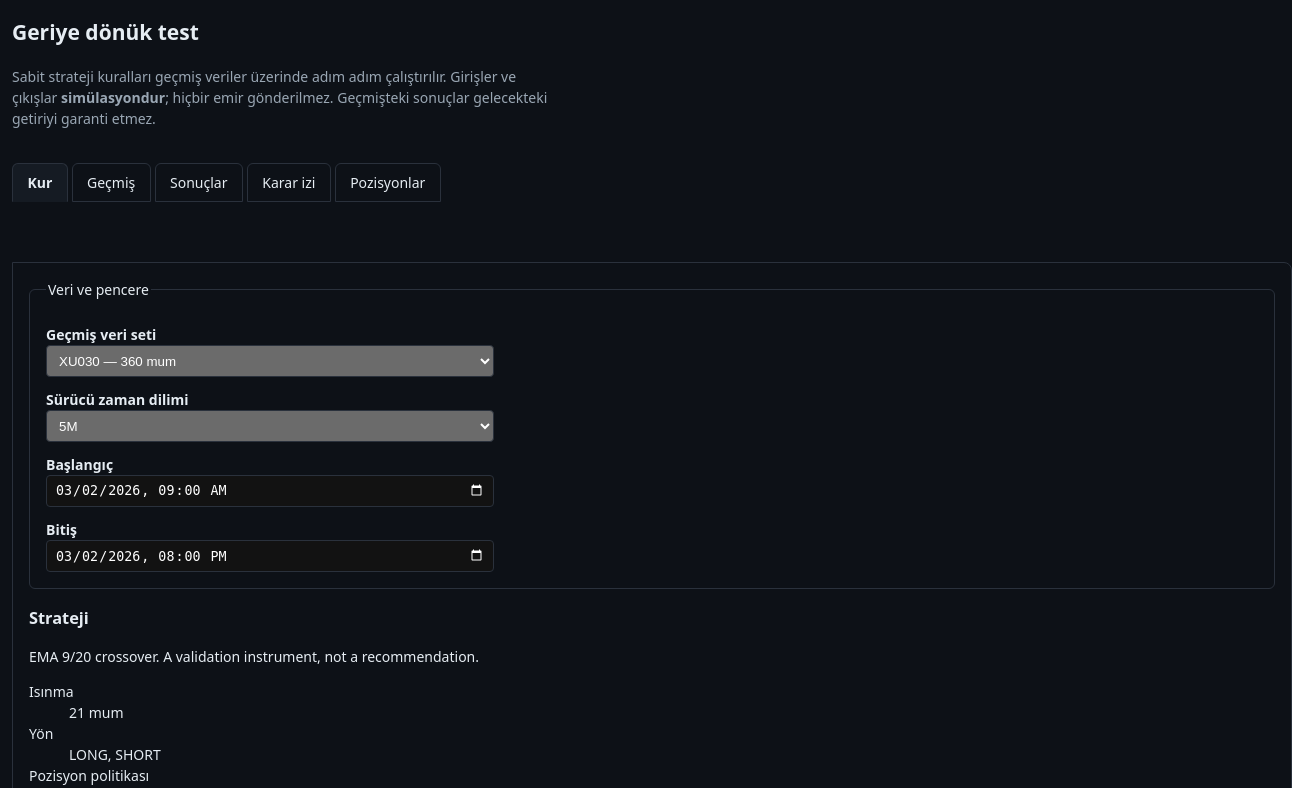
Scenario: run status presentation › shows a failed run without fabricating a report
The image size is (1292, 788).
Expected: the heading "Geriye dönük test" is shown, [12,18,199,46]
Click the tab "Geçmiş": click(111, 183) [72,163,151,202]
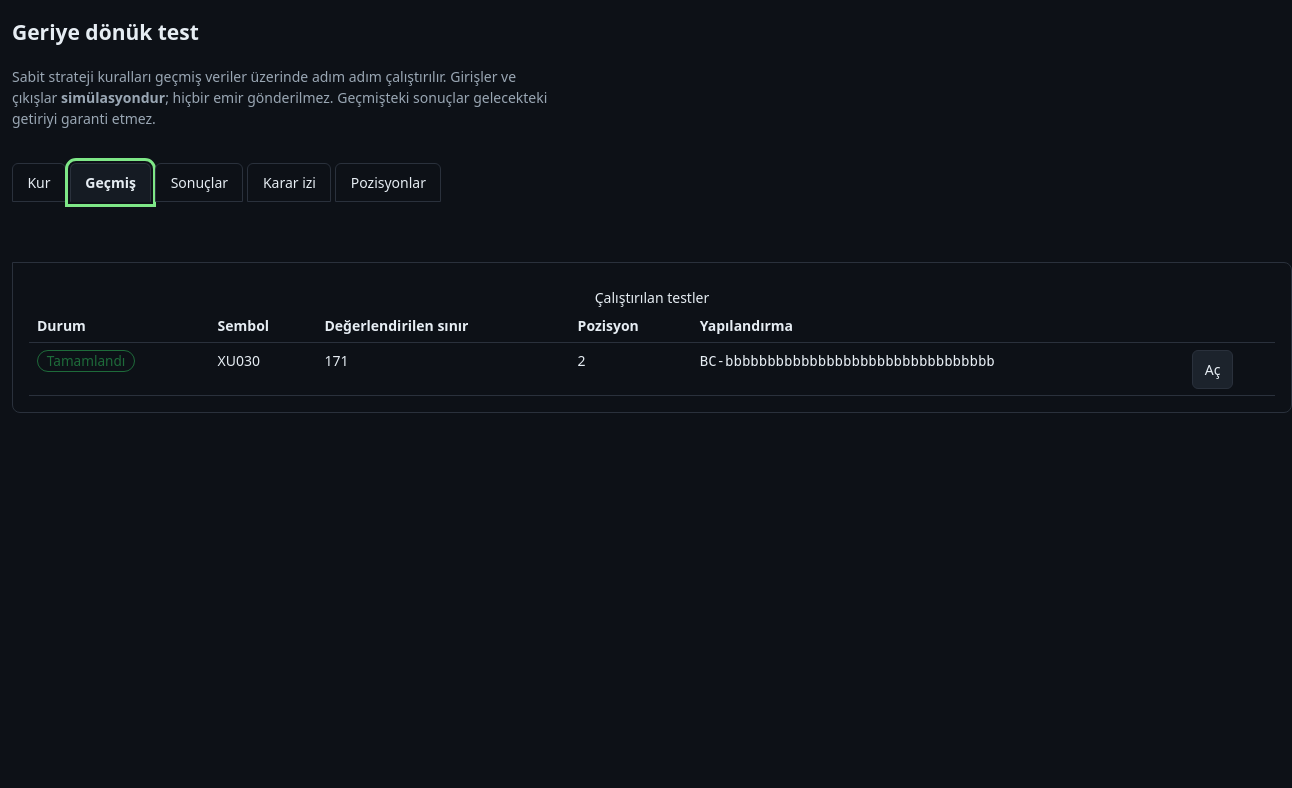
Click the button "Aç": click(1213, 369) [1192,350,1233,388]
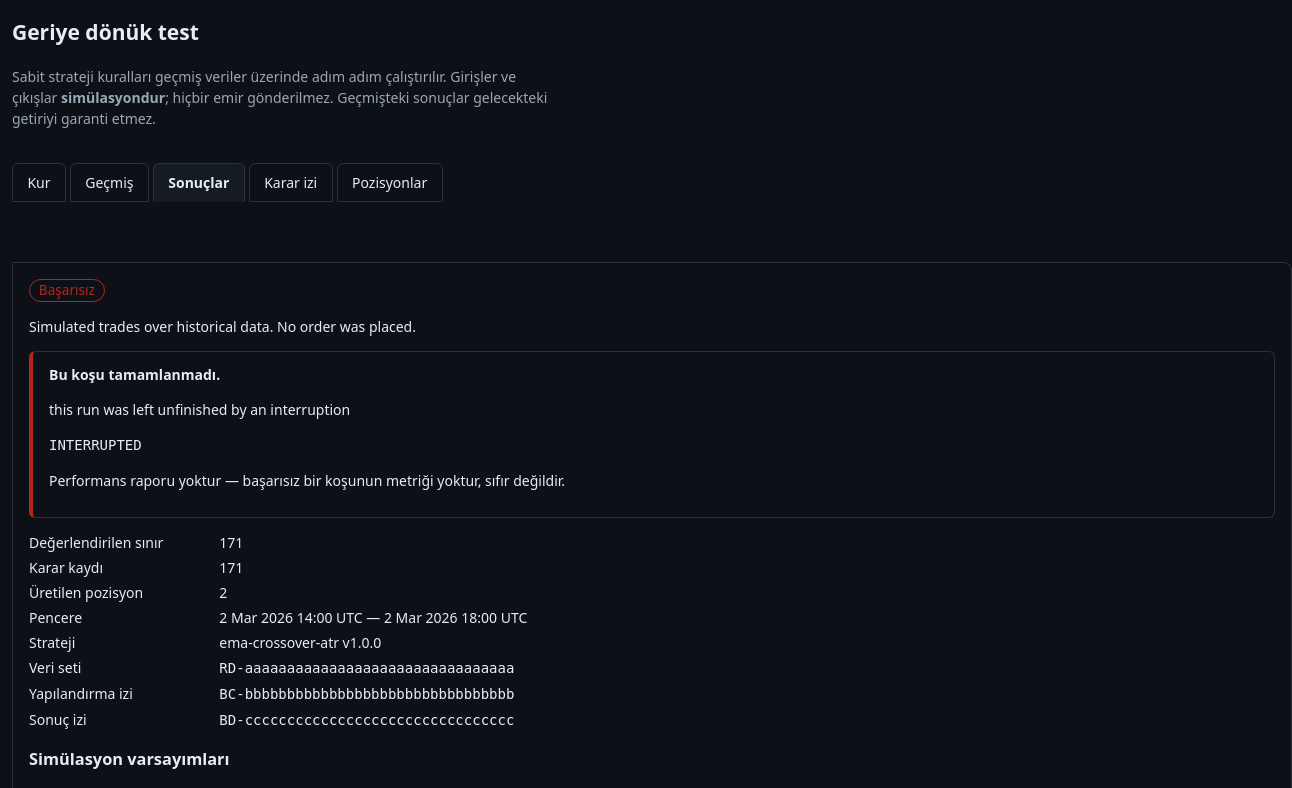
Now the text "Bu koşu tamamlanmadı." is shown, box [49,365,220,384]
Now the text "sıfır değildir" is shown, box [49,471,565,490]
Now the text "INTERRUPTED" is shown, box [49,437,142,453]
